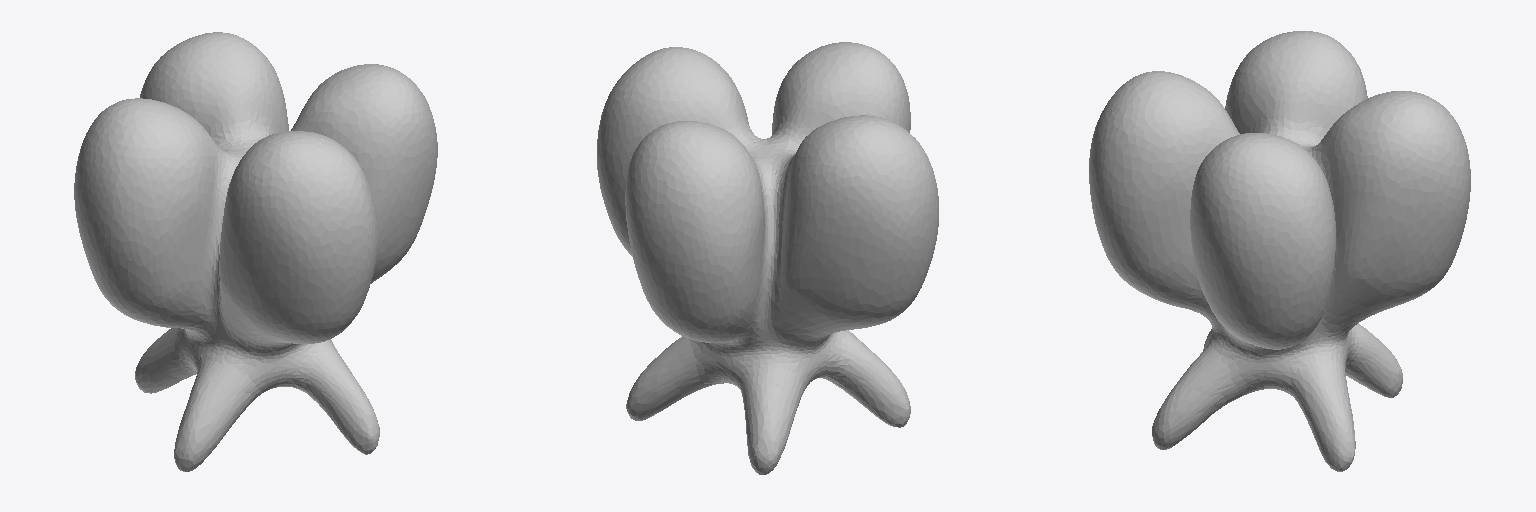
File: GROW.obj
3 renders of one model, left to right at view 1: azimuth 30°, elevation 25°; view 2: azimuth 150°, elevation 25°; view 3: azimuth 270°, elevation 25°, orthographic.
Visible parts, largest first — view 1: Quad_Sphere; view 2: Quad_Sphere; view 3: Quad_Sphere.
Part boxes in pixels (bbox=[...]): Quad_Sphere: bbox=[74, 32, 437, 471]; Quad_Sphere: bbox=[597, 42, 938, 474]; Quad_Sphere: bbox=[1089, 31, 1470, 471].
Size of the model in its own units: 3.7 by 3.6 by 3.7.